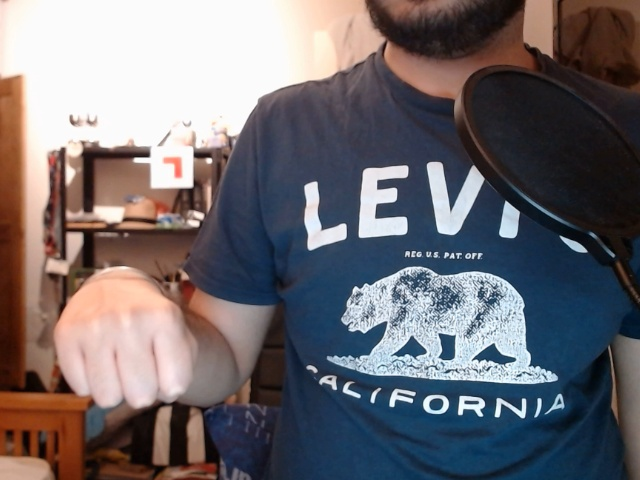Yes: (48, 252, 208, 426)
